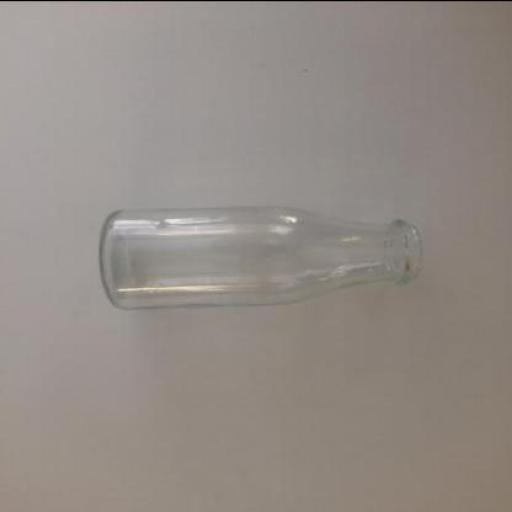glass: (100, 209, 422, 310)
